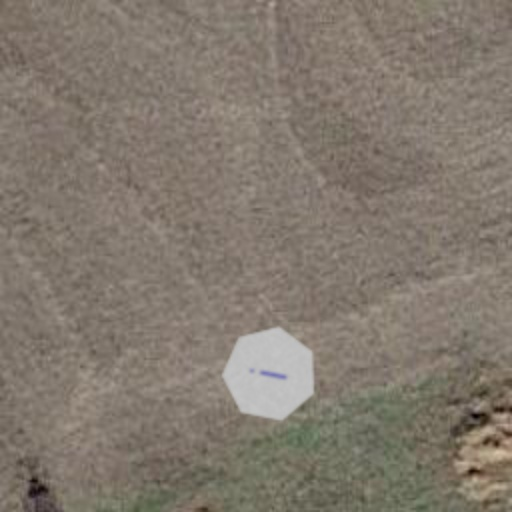heptagon: (212, 316, 328, 432)
